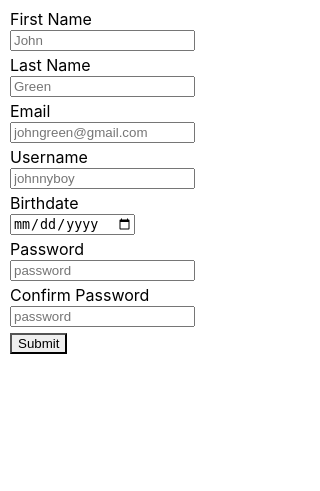
Scenario: RegisterForm › should display matching error when email is invalid
Type "test" into the field labelled "Email".
click(102, 132); type("test")  # box x1=10 y1=122 x2=195 y2=143
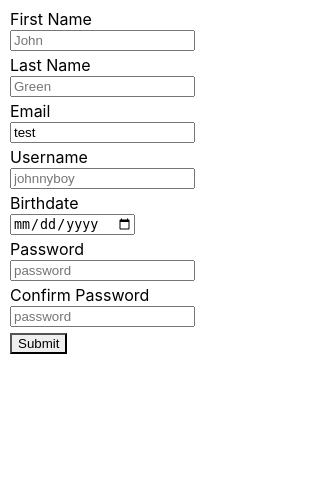
Submit the form from the button, box x1=10 y1=333 x2=68 y2=354
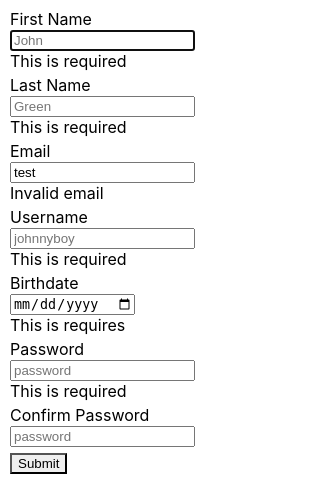
Expected: the message "Invalid email" is shown, x1=10 y1=183 x2=104 y2=203
